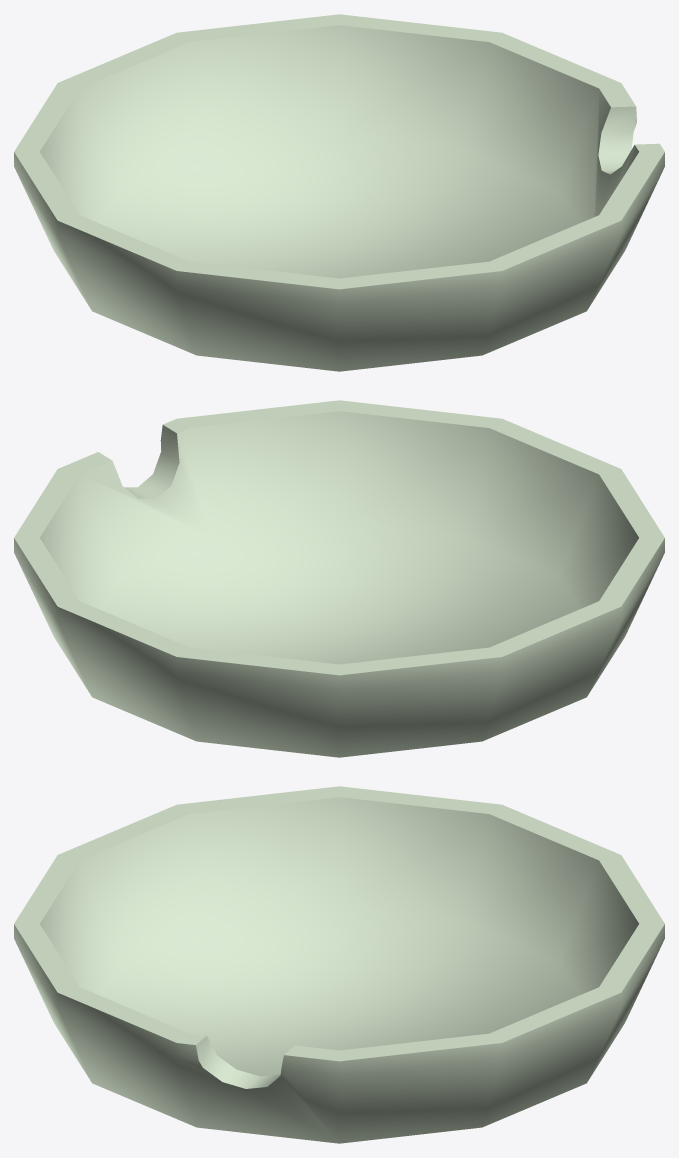
Rendered from ashtray.fbx.
3 views of the same model, one above another, from view 1: azimuth 30°, elevation 25°; view 2: azimuth 150°, elevation 25°; view 3: azimuth 270°, elevation 25° (orthographic).
Visible parts, largest first — view 1: ashtray; view 2: ashtray; view 3: ashtray.
Boxes of the visible parts, x1,y1,x2,y2 form: ashtray: (14, 14, 664, 371); ashtray: (14, 400, 664, 757); ashtray: (14, 786, 664, 1143).
Bounding box in the file's own units: 19.24 × 4.38 × 19.24.
